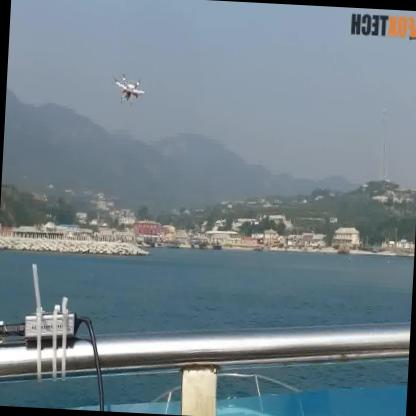drone: (105, 69, 150, 111)
